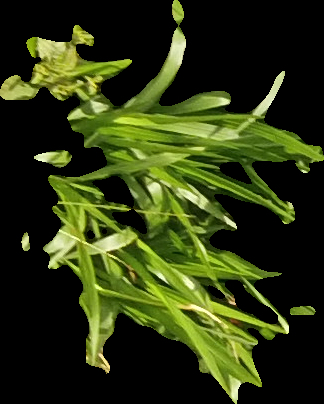grass: (1, 1, 321, 402)
